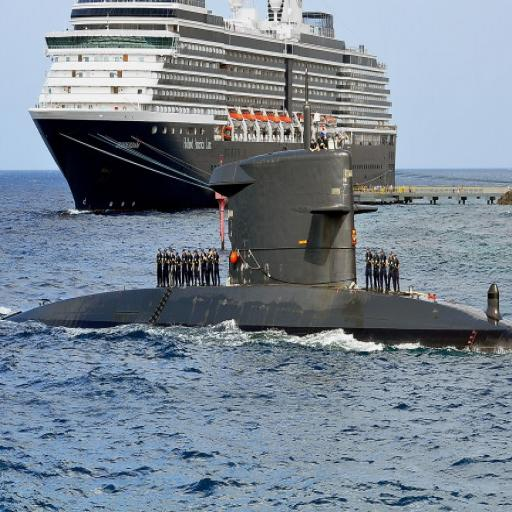submarine: (1, 106, 512, 343)
